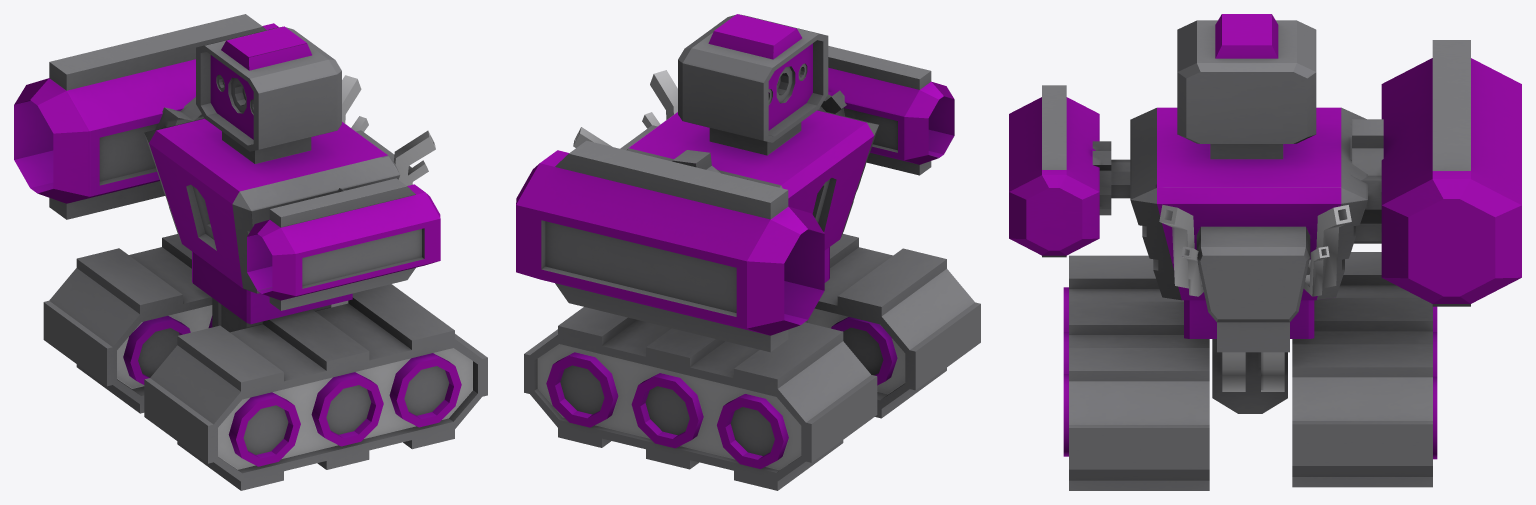
Rendered from Enemy2_Move18.obj.
The picture shows the model from 3 angles, left to right: view 1: azimuth 30°, elevation 25°; view 2: azimuth 150°, elevation 25°; view 3: azimuth 270°, elevation 25°; orthographic projection. The views are drawn at different scales.
Visible parts, largest first — view 1: Object006, Object007, Object010, Object009; view 2: Object006, Object007, Object010, Object009; view 3: Object006, Object007, Object010, Object009, Object008.
Part boxes in pixels (x1,y1,x2,y2): Object006: [14, 14, 487, 490]; Object007: [144, 26, 399, 332]; Object010: [331, 75, 435, 307]; Object009: [155, 97, 203, 129]; Object006: [516, 46, 980, 490]; Object007: [627, 14, 878, 322]; Object010: [573, 70, 677, 150]; Object009: [672, 150, 748, 179]; Object006: [1009, 40, 1521, 490]; Object007: [1130, 14, 1367, 413]; Object010: [1159, 204, 1351, 391]; Object009: [1352, 119, 1383, 243]; Object008: [1092, 141, 1130, 215].
Bounding box in the file's own units: 87.45 × 108 × 125.
